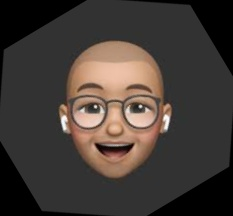earphone: (44, 96, 88, 141), (146, 99, 186, 140)
